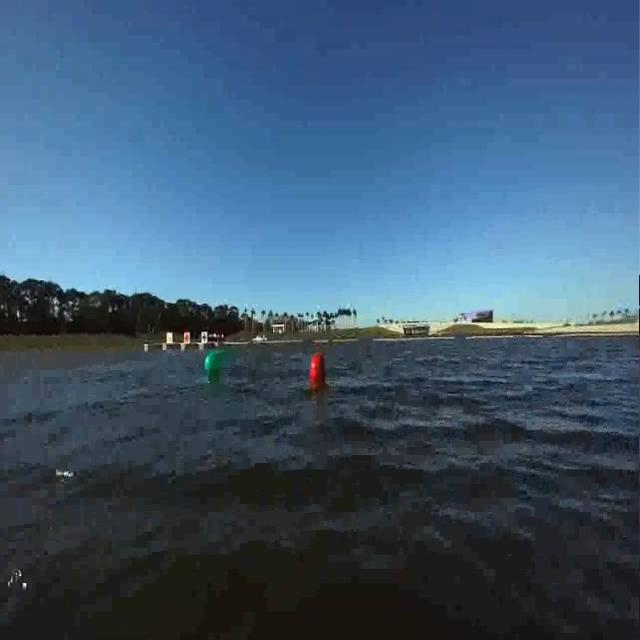green-buoy: (201, 336, 224, 388)
red-buoy: (309, 352, 330, 391)
